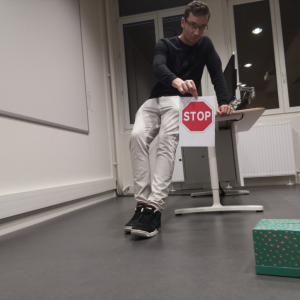stop: (181, 99, 213, 133)
